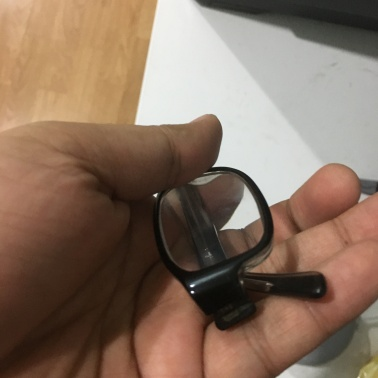glasses: (129, 150, 290, 340)
